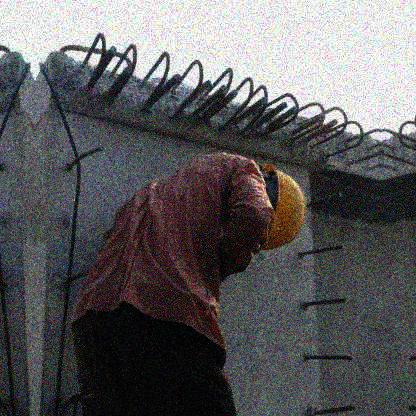helmet: (260, 167, 310, 254)
